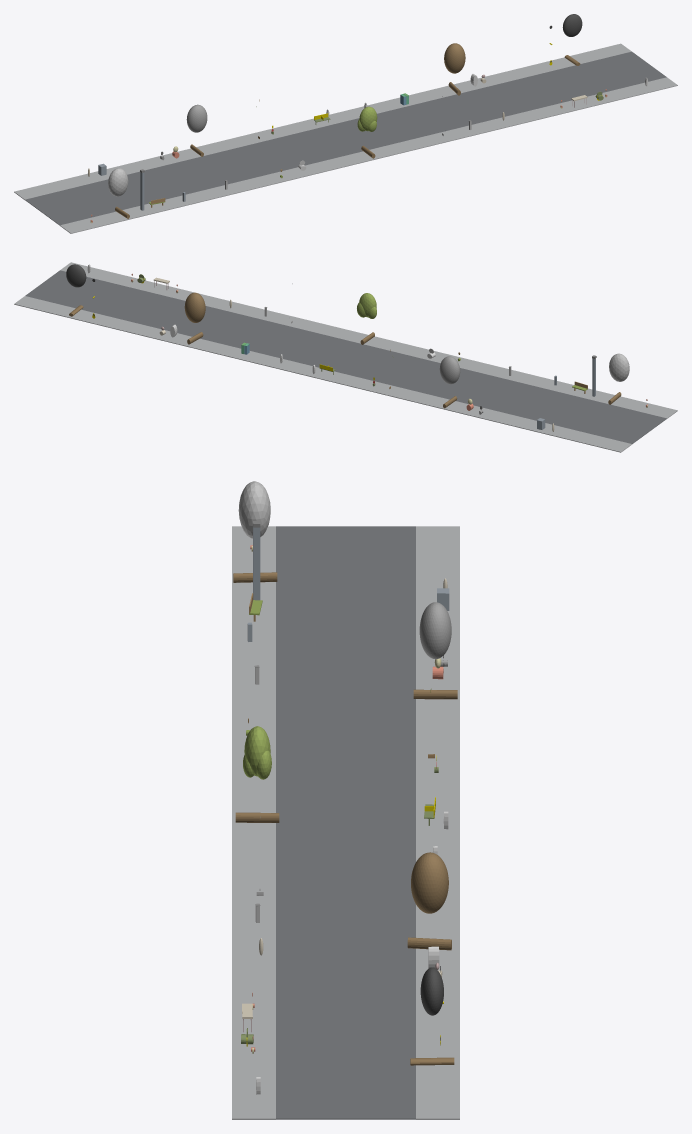
3 renders of one model, top to bottom at view 1: azimuth 30°, elevation 25°; view 2: azimuth 150°, elevation 25°; view 3: azimuth 270°, elevation 25°, orthographic. The views are drawn at different scales.
Visible parts, largest first — view 1: road_slab, sidewalk_left, sidewalk_right, inst_0015, inst_0012, inst_0013, inst_0014, inst_0016; view 2: road_slab, sidewalk_right, sidewalk_left, inst_0015, inst_0012, inst_0013, inst_0014, inst_0016; view 3: road_slab, sidewalk_left, sidewalk_right, inst_0015, inst_0013, inst_0012, inst_0014, inst_0016.
Boxes of the visible parts, x1,y1,x2,y2 form: road_slab: [25, 51, 666, 225]; sidewalk_left: [60, 77, 677, 233]; sidewalk_right: [14, 43, 631, 199]; inst_0015: [444, 43, 465, 95]; inst_0012: [108, 168, 129, 218]; inst_0013: [186, 104, 207, 156]; inst_0014: [357, 106, 377, 158]; inst_0016: [562, 14, 582, 65]; road_slab: [25, 270, 666, 444]; sidewalk_right: [14, 296, 631, 452]; sidewalk_left: [60, 262, 677, 418]; inst_0015: [184, 292, 205, 344]; inst_0012: [608, 353, 629, 404]; inst_0013: [439, 356, 460, 408]; inst_0014: [357, 293, 376, 344]; inst_0016: [66, 264, 86, 316]; road_slab: [276, 526, 415, 1119]; sidewalk_left: [232, 526, 275, 1119]; sidewalk_right: [416, 526, 459, 1119]; inst_0015: [407, 852, 451, 950]; inst_0013: [413, 602, 457, 699]; inst_0012: [233, 481, 277, 582]; inst_0014: [235, 726, 279, 822]; inst_0016: [410, 967, 454, 1065].
Size of the model in its own units: 80 by 6.08 by 13.
